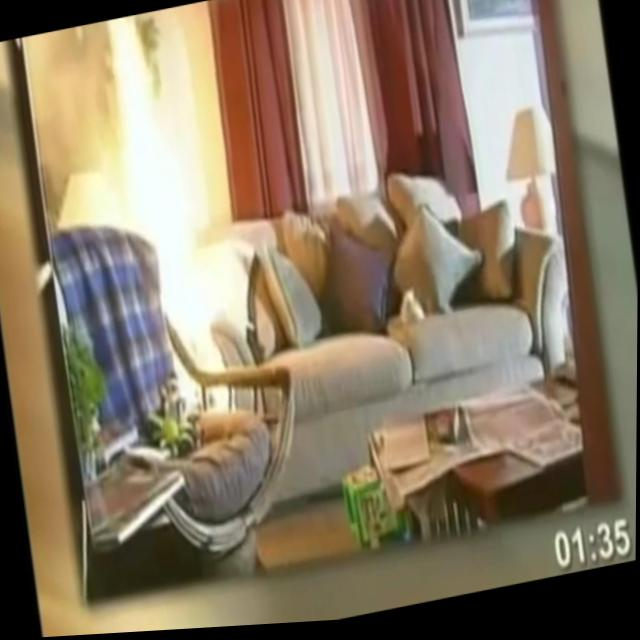fire: (102, 21, 249, 429)
